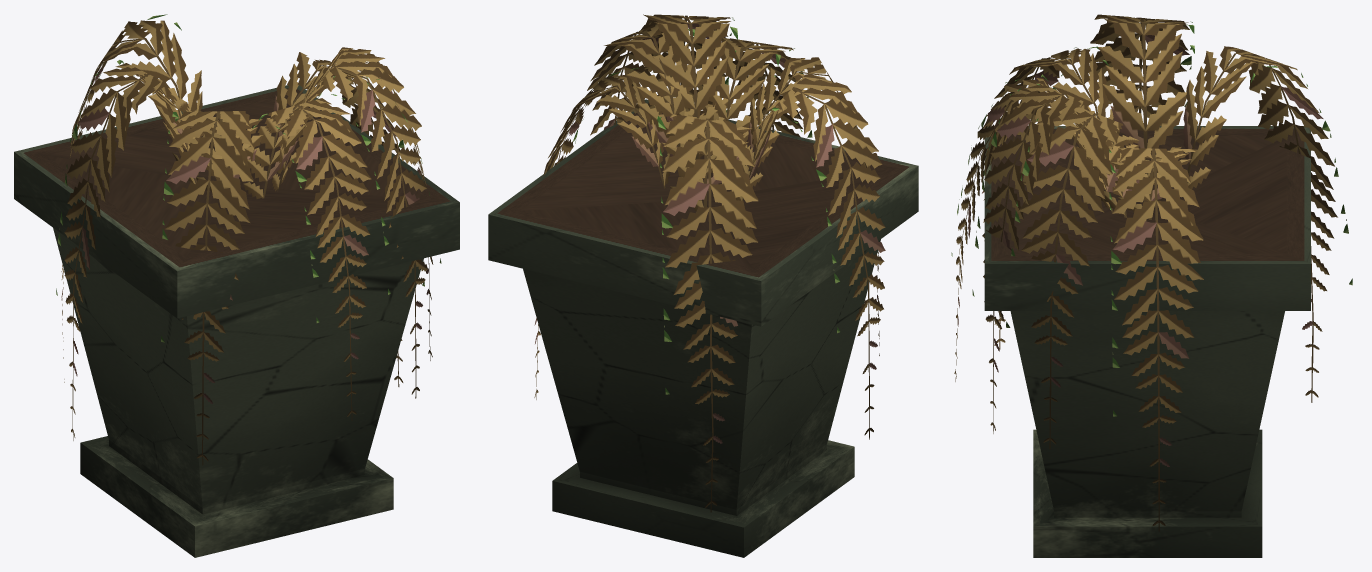
The model's file is mm7_deco_plant03b.glb.
3 renders of one model, left to right at view 1: azimuth 30°, elevation 25°; view 2: azimuth 150°, elevation 25°; view 3: azimuth 270°, elevation 25°, orthographic. The views are drawn at different scales.
Visible parts, largest first — view 1: Plant; view 2: Plant; view 3: Plant.
Boxes of the visible parts, bbox=[...] form: Plant: bbox=[14, 14, 459, 557]; Plant: bbox=[488, 14, 918, 557]; Plant: bbox=[951, 14, 1352, 557].
Bounding box in the file's own units: 1.26 × 1.53 × 1.27.
2 materials, 2 textured.
